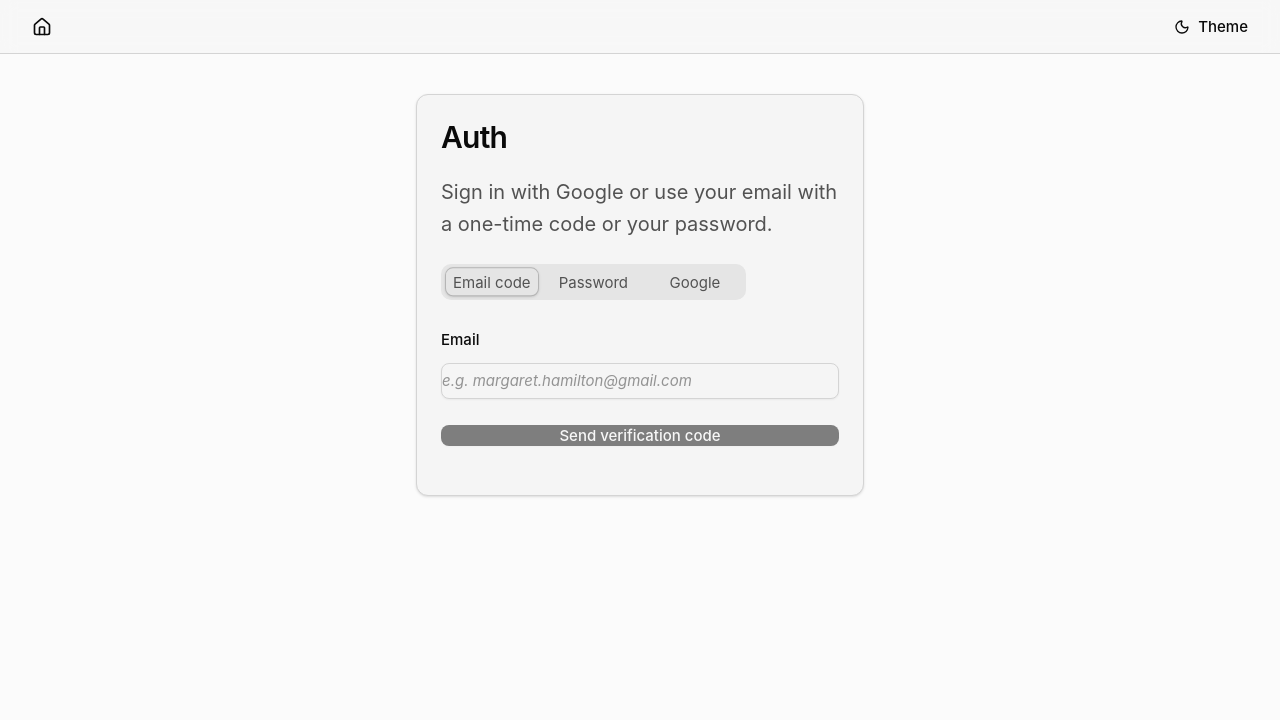
Test case: SignIn › validates email before sending a verification code
Type "invalid" into the field labelled "Email" at (640, 381), box 441,363 -> 839,399
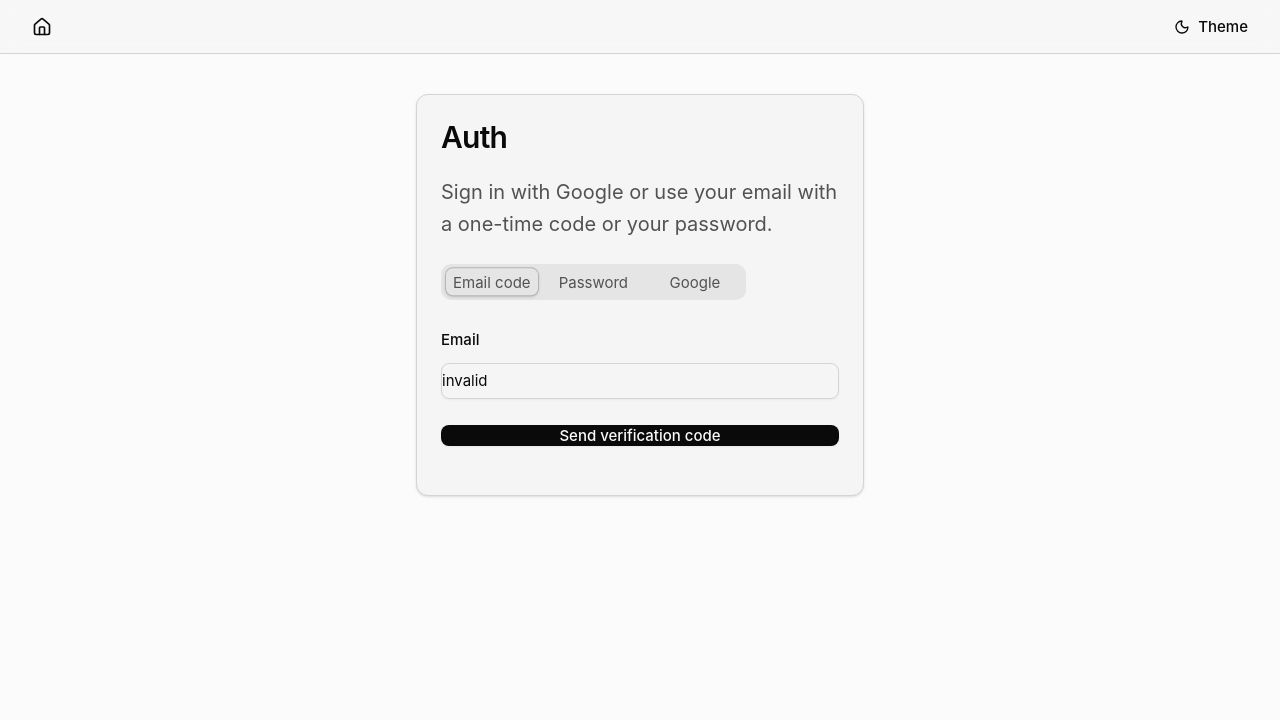
Click the button "Send verification code" at (640, 435), box 441,425 -> 839,446
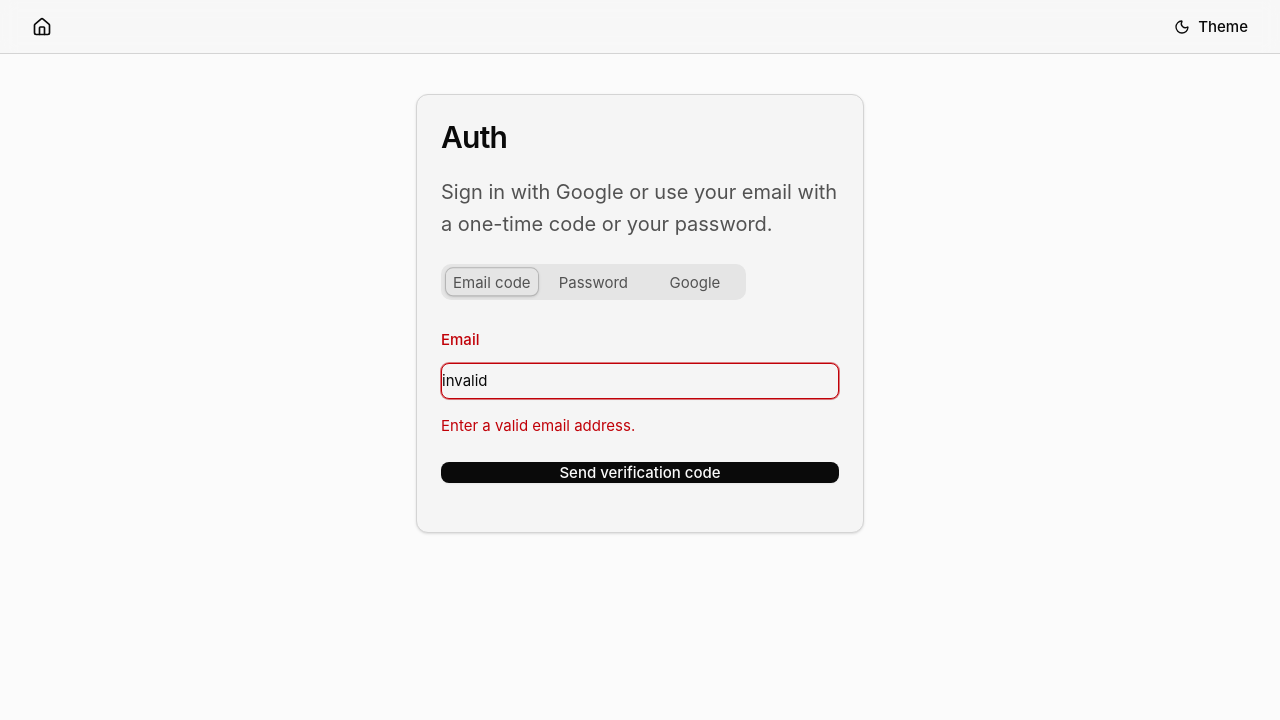
Expected: the text "Enter a valid email address." is shown, 441,416 -> 635,435
